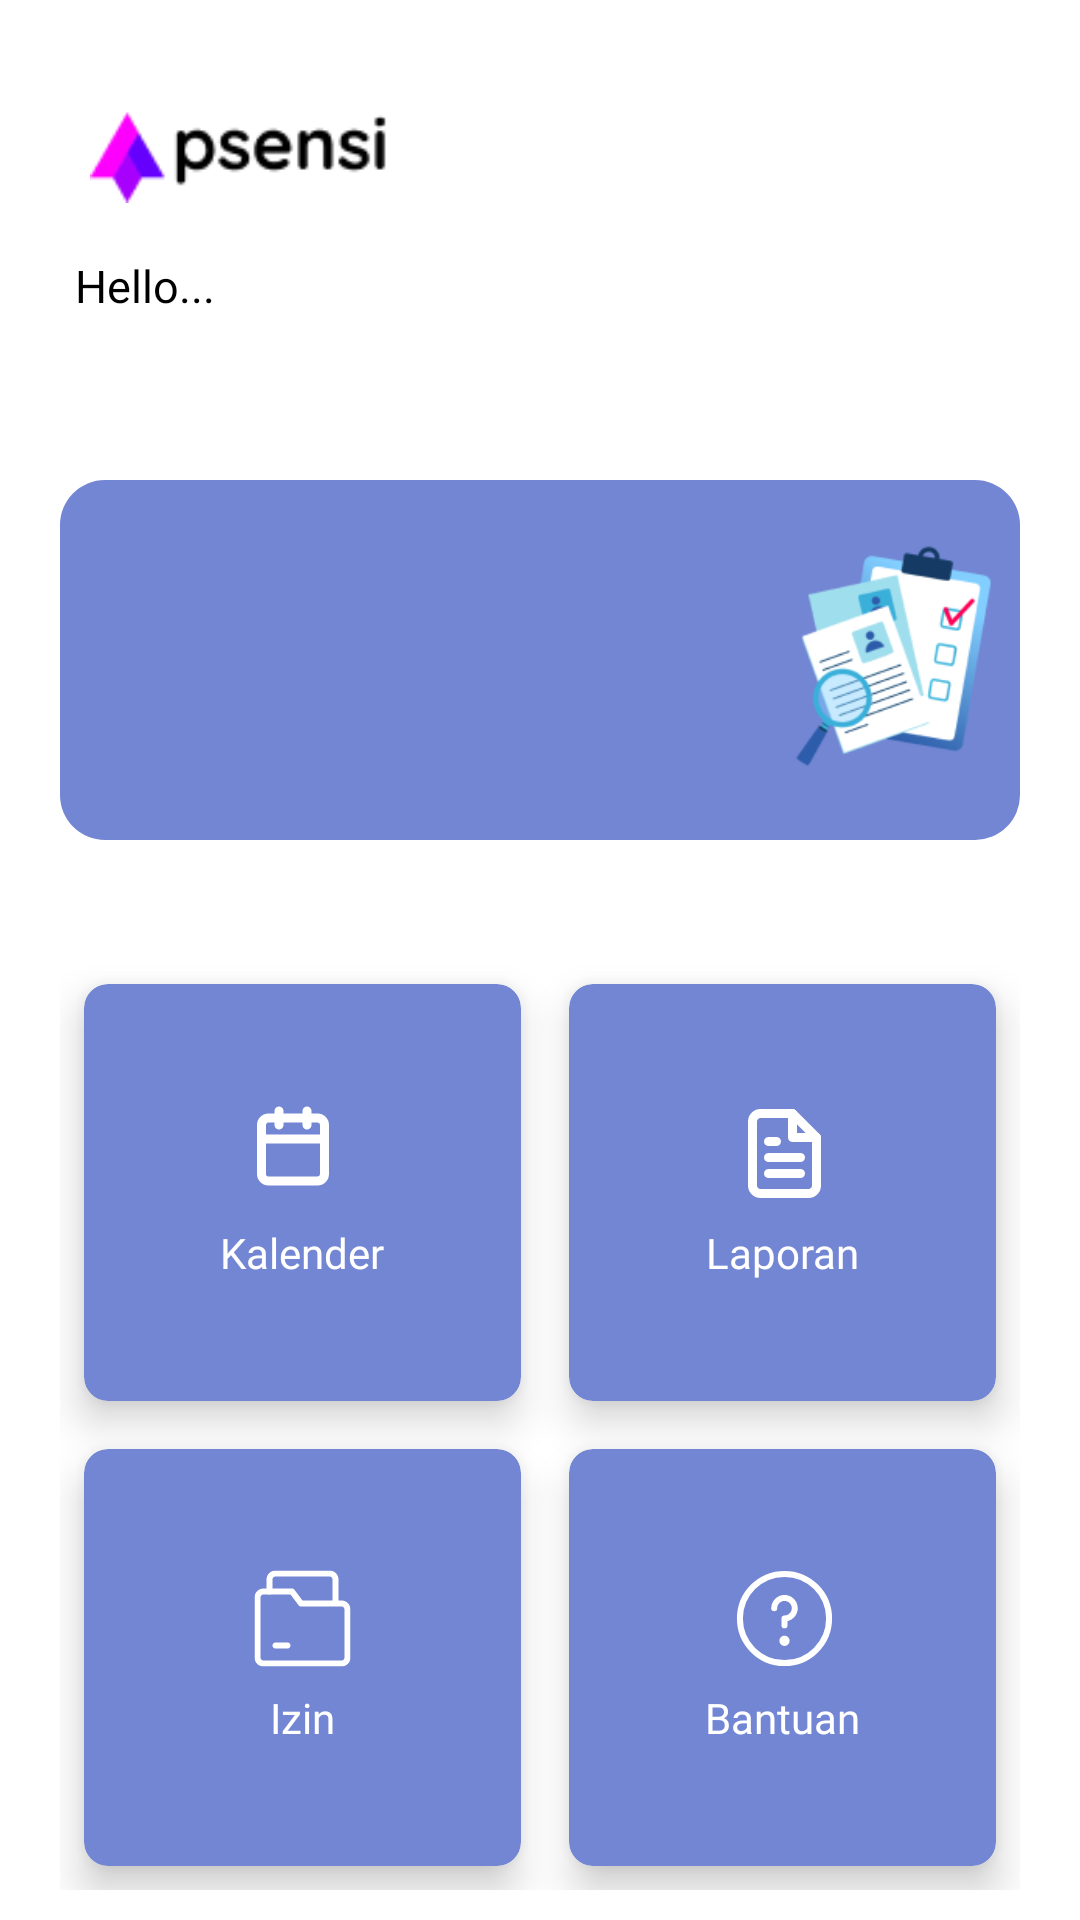

Screen size 1080*1920. Icon name, then its box in pixels as (x1, y1, x2, y2):
calendar: (257, 1106, 329, 1186)
